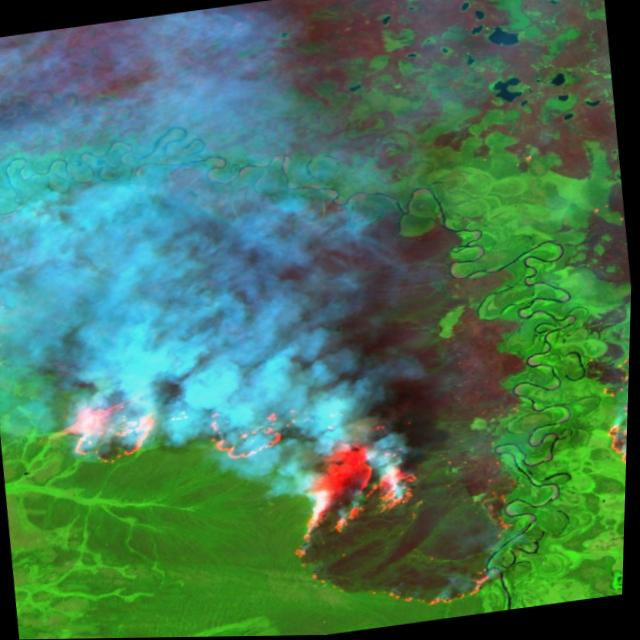fire: (48, 331, 536, 639), (588, 347, 632, 491)
